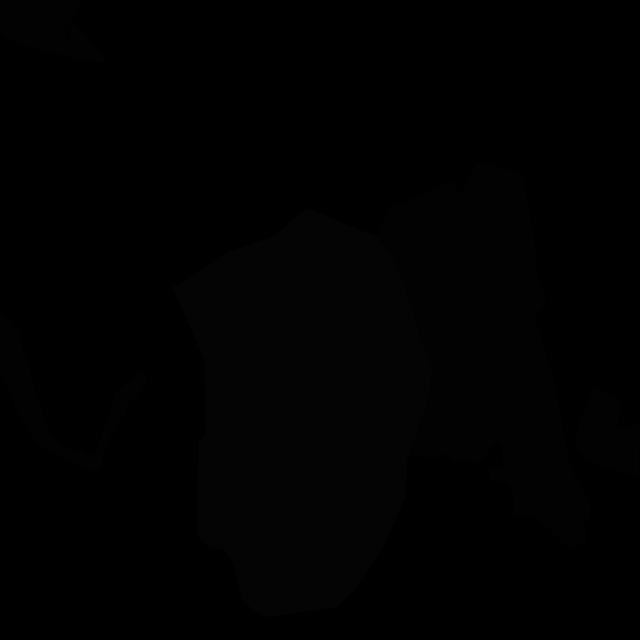cardboard: (377, 164, 591, 551), (0, 313, 148, 472), (576, 387, 640, 477)
soft_plastic: (172, 208, 432, 617)
